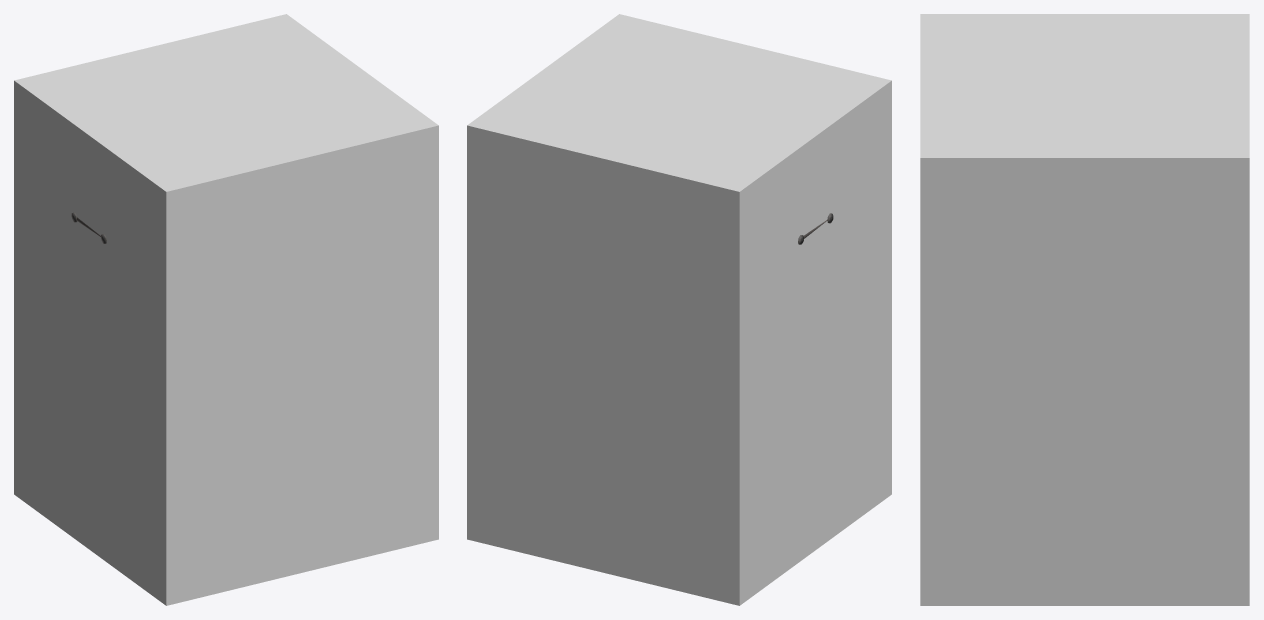
File: trash_bin.FBX
3 renders of one model, left to right at view 1: azimuth 30°, elevation 25°; view 2: azimuth 150°, elevation 25°; view 3: azimuth 270°, elevation 25°, orthographic. The views are drawn at different scales.
Visible parts, largest first — view 1: bounds; view 2: bounds; view 3: bounds.
Boxes of the visible parts, <box> form: bounds: <box>14,14,438,605</box>; bounds: <box>467,14,891,605</box>; bounds: <box>920,14,1249,605</box>.
Size of the model in its own units: 88.33 by 127 by 84.98.
